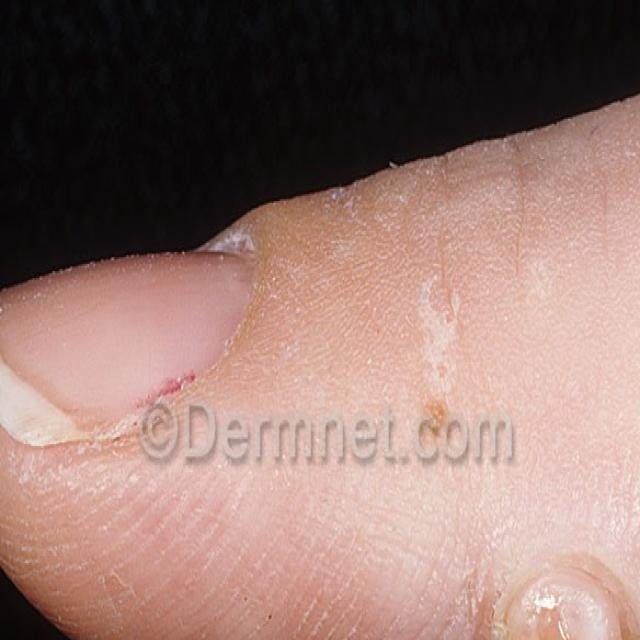Warts: (390, 258, 466, 496), (453, 551, 640, 640)
